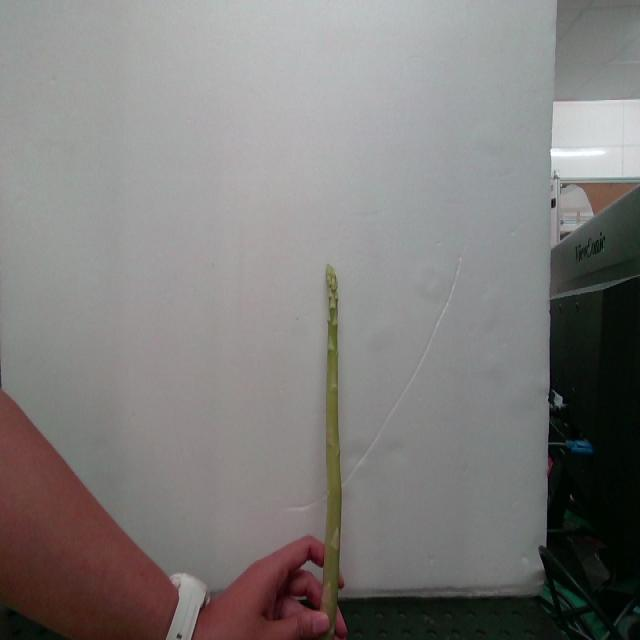aspargus: (314, 267, 344, 640)
